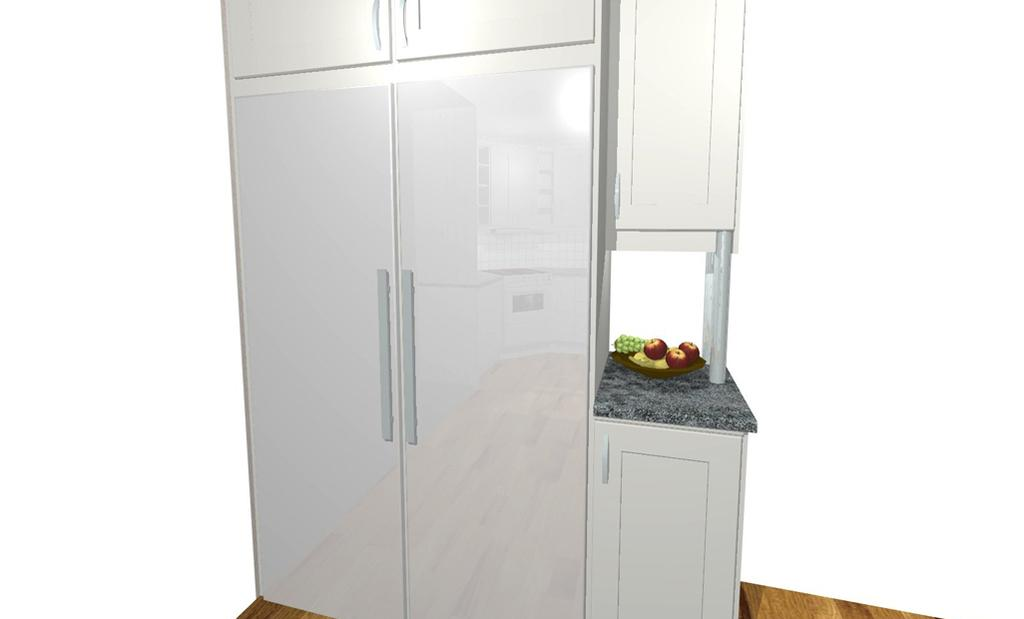cabinet_door: (596, 427, 732, 619), (619, 2, 729, 234), (232, 1, 386, 65), (395, 2, 588, 45)
handle: (369, 268, 396, 444), (400, 270, 422, 445), (364, 3, 383, 55), (394, 6, 414, 46), (600, 435, 614, 482)
